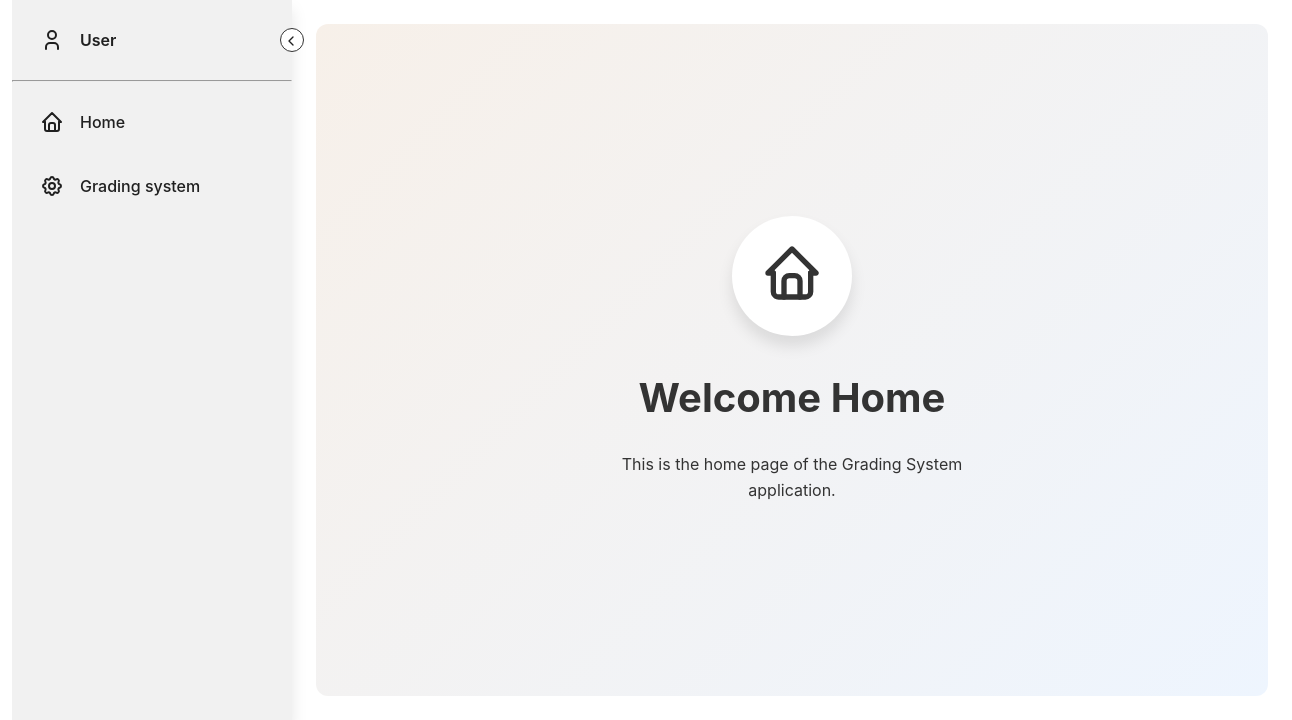
Test: Basic Navigation › should navigate between pages using sidebar
Step 1. Click the link with test id "nav-item-thresholds" → click(120, 186), box [40,174,200,198]
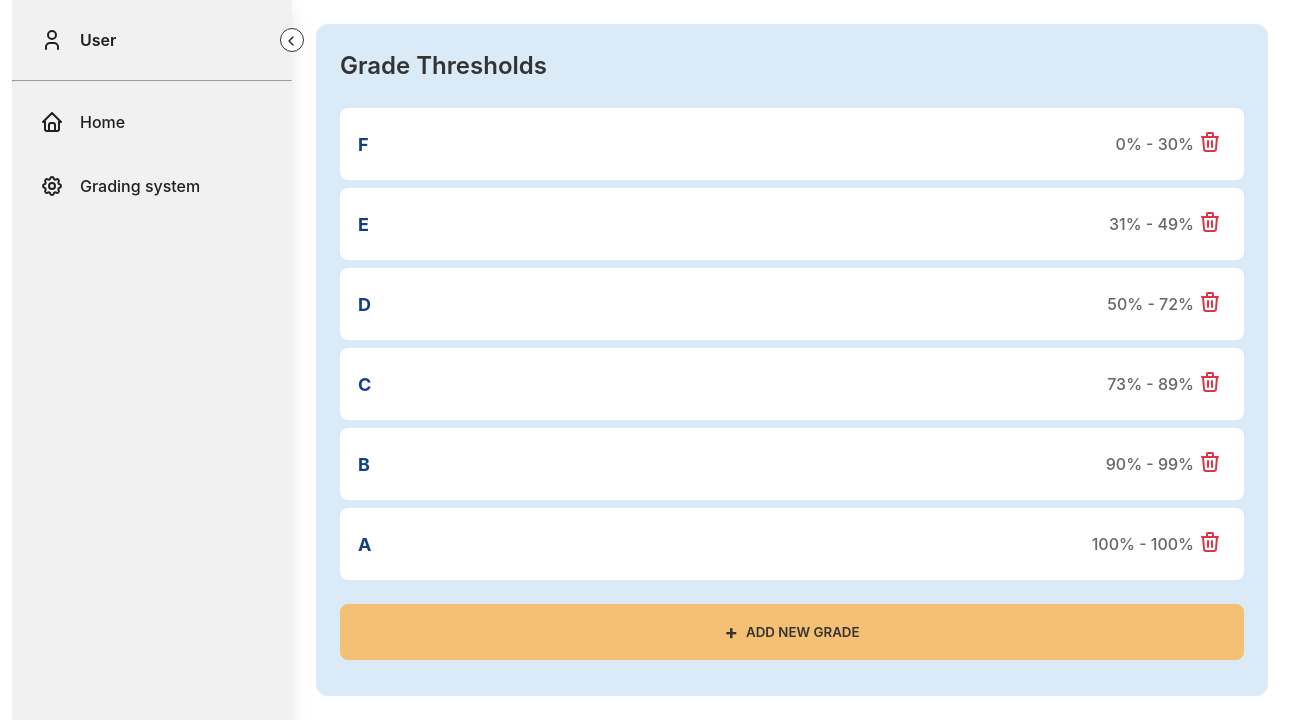
Now the element with class "grade-list" is shown
Step 2. Click the link with test id "nav-item-home" → click(83, 122), box [40,110,125,134]
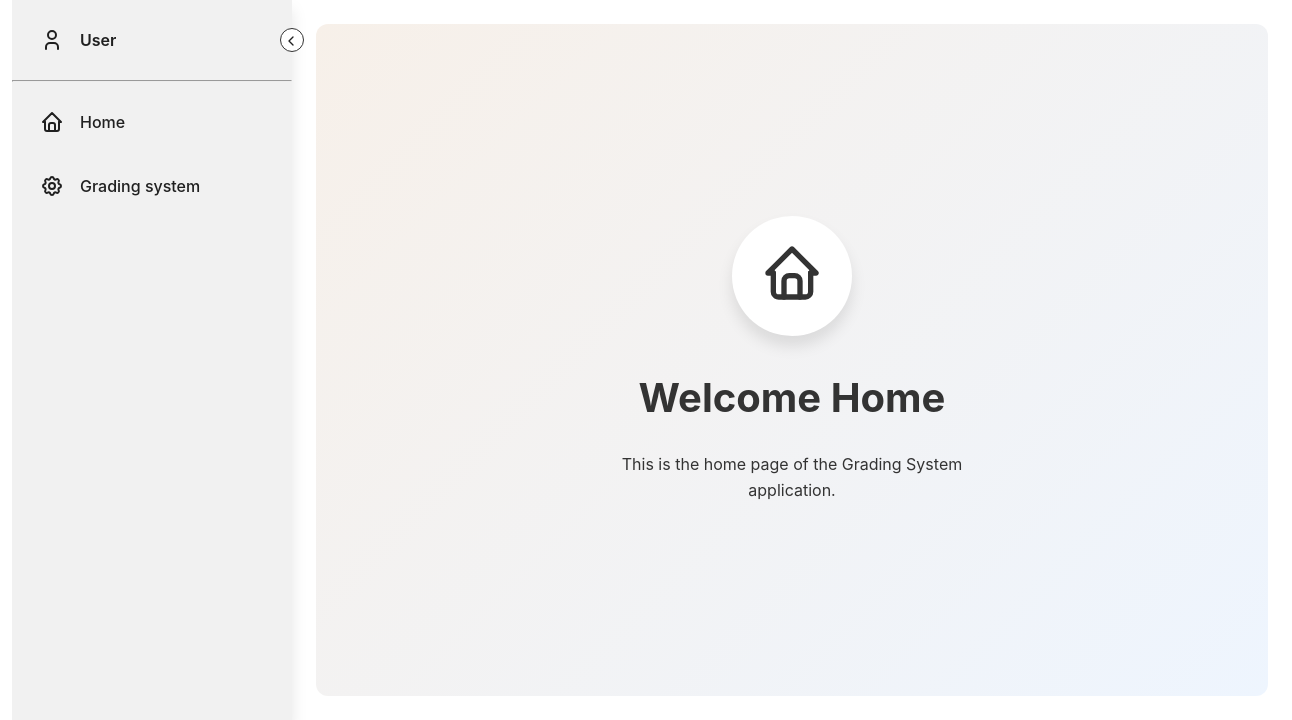
Now the element with class "home-content" is shown, box [622,216,963,500]
Step 3. Click the link with test id "nav-item-user" → click(78, 40), box [40,28,116,52]
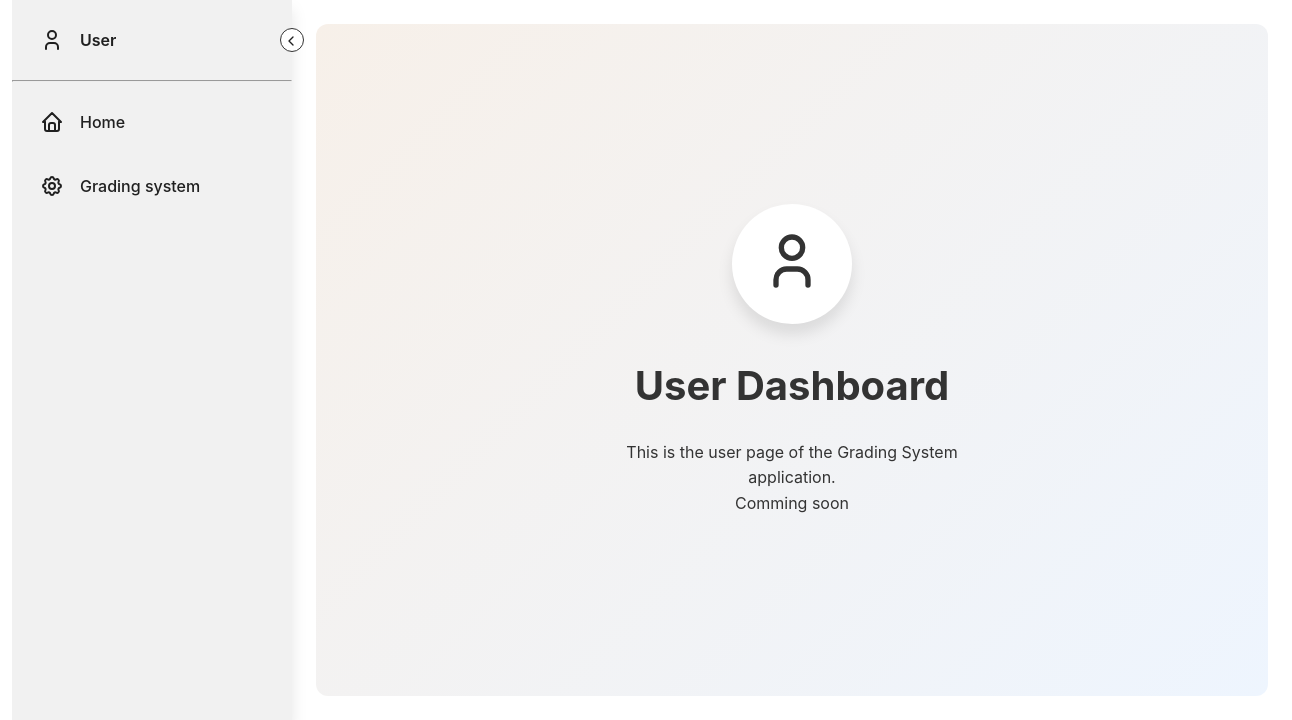
Now the element with class "user-content" is shown, box [626,204,957,513]
